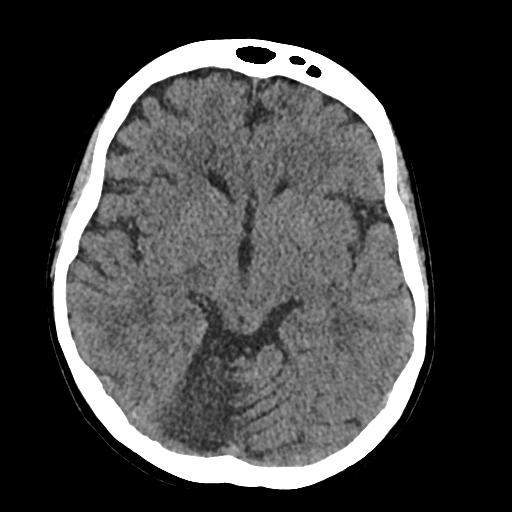Cancer: (176, 341, 249, 464)
Normal_Brain: (45, 21, 512, 512)
